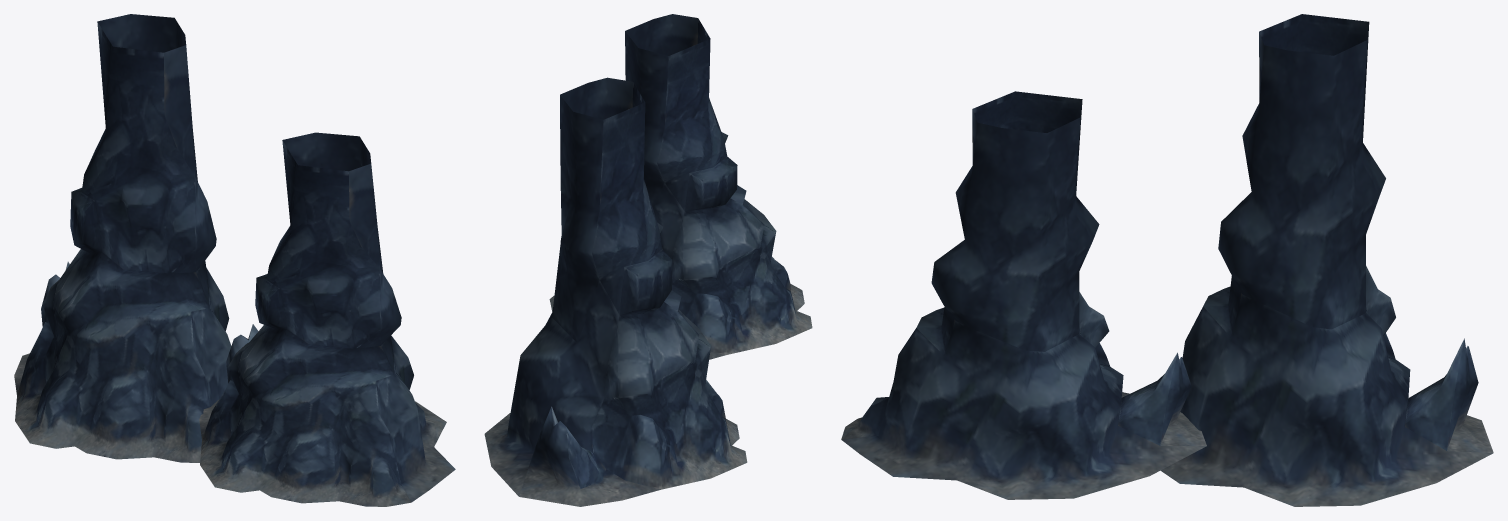
File: Area_01_4.fbx
3 renders of one model, left to right at view 1: azimuth 30°, elevation 25°; view 2: azimuth 150°, elevation 25°; view 3: azimuth 270°, elevation 25°, orthographic. The views are drawn at different scales.
Visible parts, largest first — view 1: Area_01_4; view 2: Area_01_4; view 3: Area_01_4.
Part boxes in pixels (<box>): Area_01_4: <box>14,14,455,506</box>; Area_01_4: <box>484,14,812,506</box>; Area_01_4: <box>841,14,1493,506</box>.
Size of the model in its own units: 2861 by 3333 by 4780.
